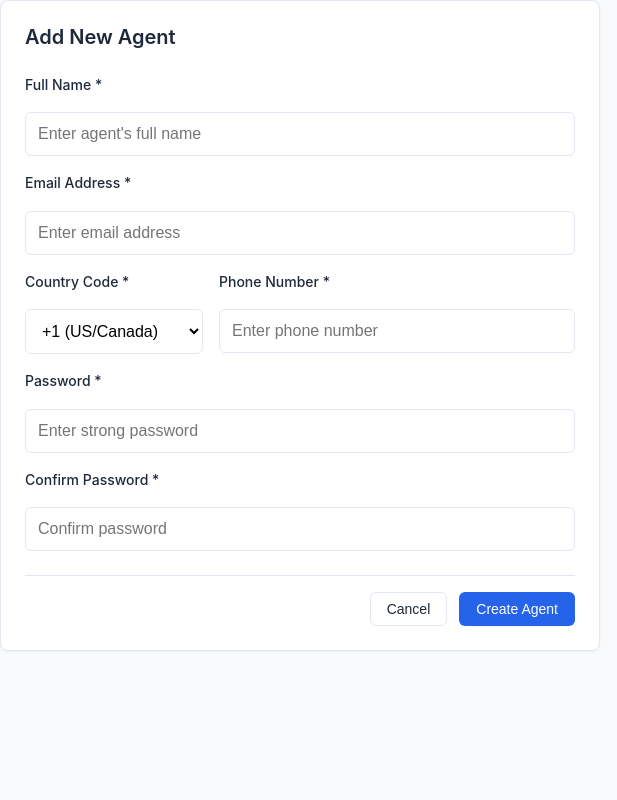
AddAgent › clears validation errors when user starts typing
The width and height of the screenshot is (617, 800).
// Trigger validation error
Click the button "Create Agent" at (517, 609), box x1=459 y1=592 x2=575 y2=626
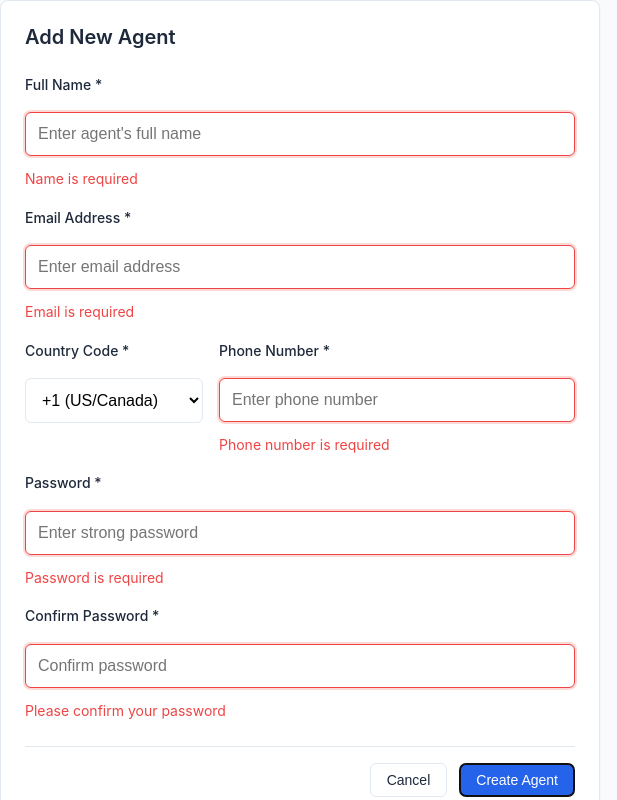
expect the text "Name is required" is shown: met, box x1=25 y1=170 x2=138 y2=187
// Start typing to clear error
Type "John" into the field labelled "Full Name *" at (300, 134), box x1=25 y1=112 x2=575 y2=156
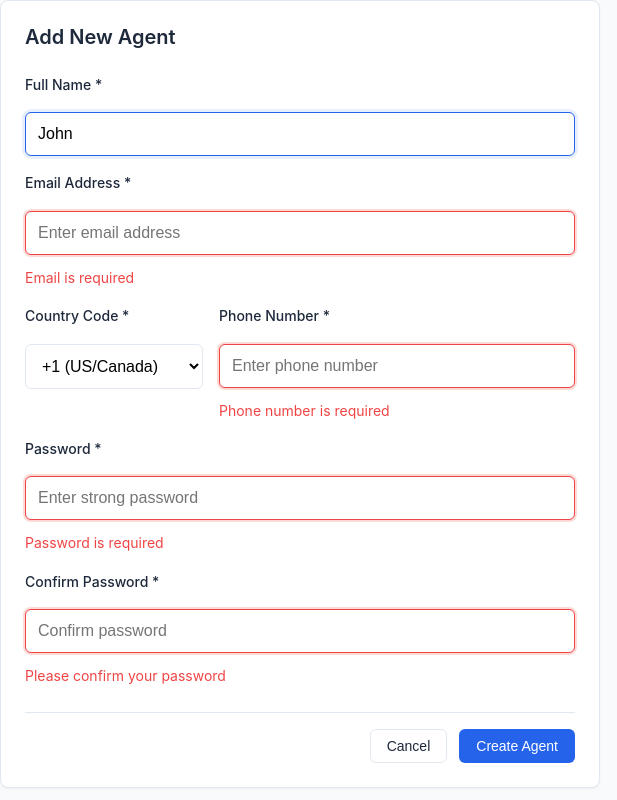
expect the text "Name is required" is gone: met
